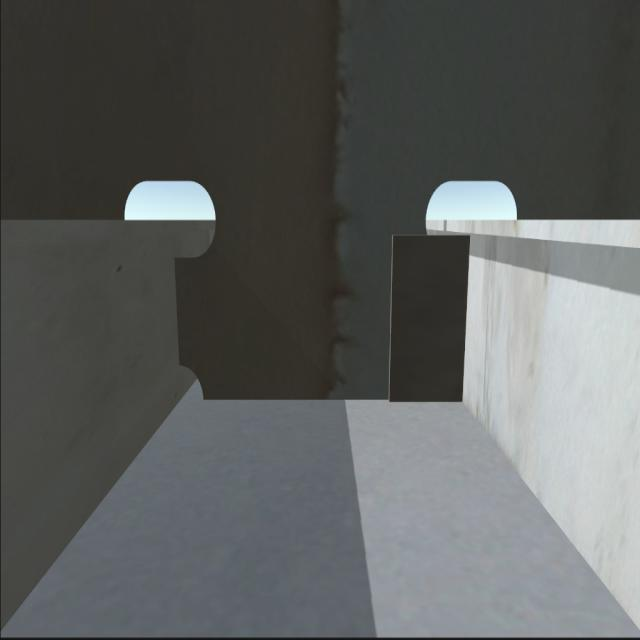fillet_hole: (175, 358, 207, 411)
fillet_yong_jeop_jang: (205, 389, 463, 405)
longi_yong_jeop_jang: (167, 259, 184, 368), (462, 228, 470, 408)
plate_CP01: (392, 231, 466, 405)
